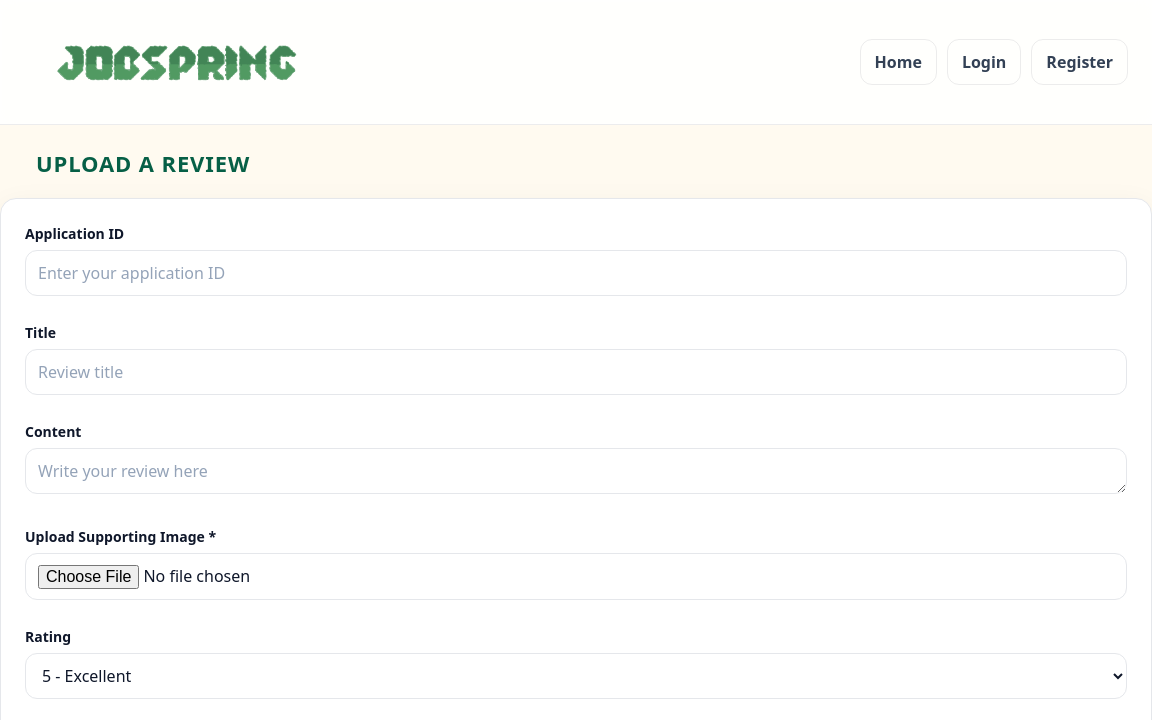
Test: resets form when clicking reset button
The image size is (1152, 720).
In the field with placeholder "Review title": (576, 372) [25,349,1127,395], type "Old Title"
(page scrolled)
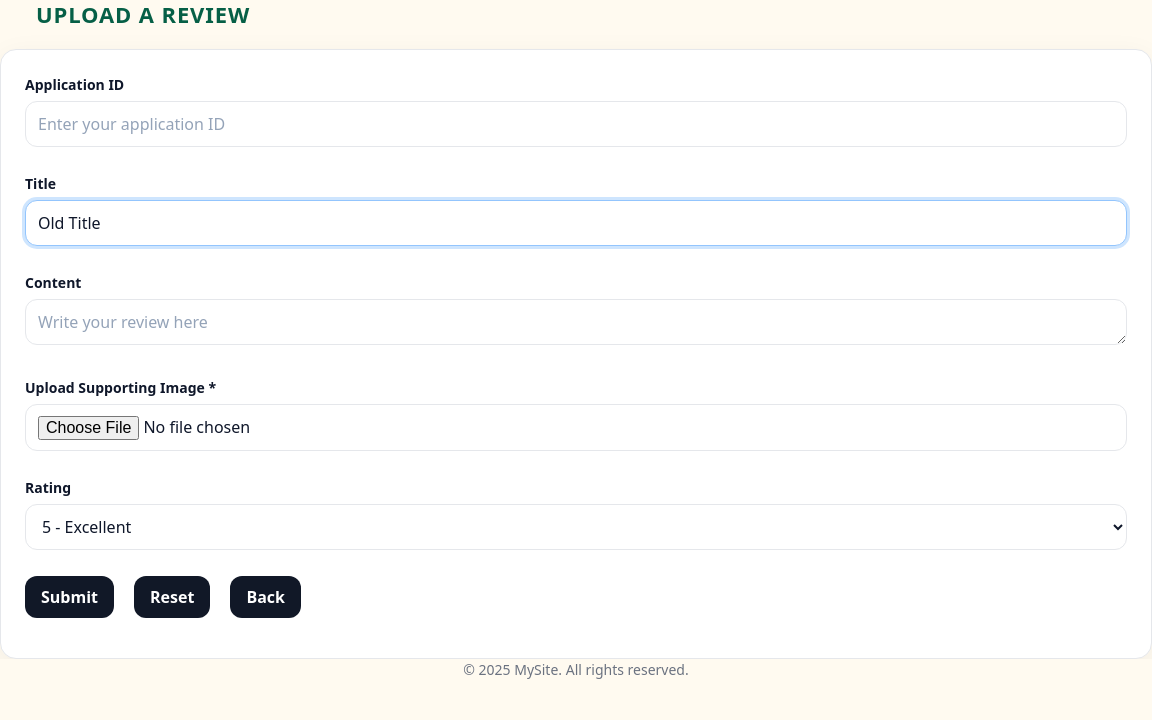
Click the button "Reset": (172, 597) [134,576,210,618]
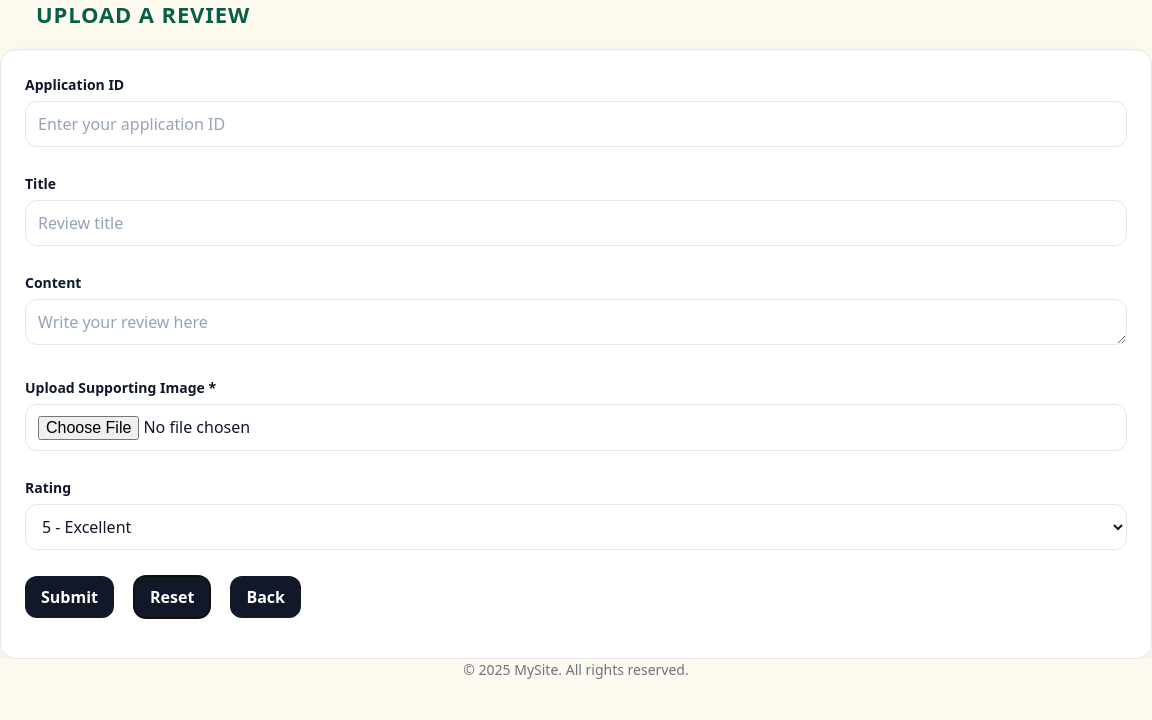
Result: the field with placeholder "Review title" is empty at [25,200,1127,246]
